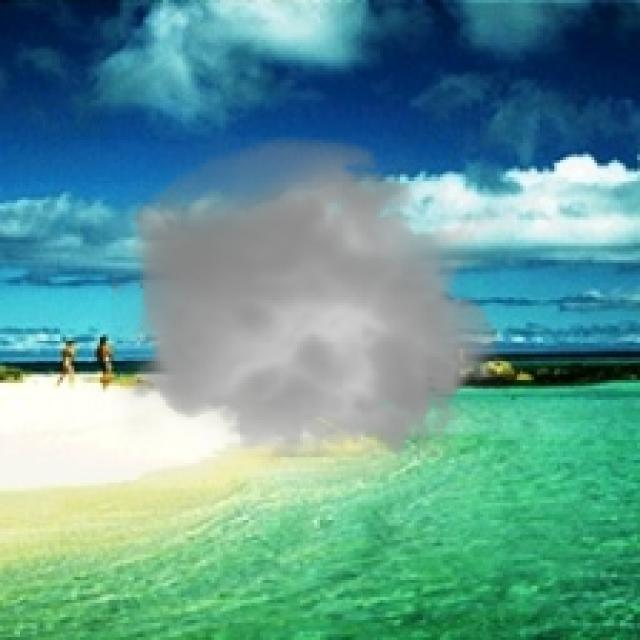smoke: (112, 126, 514, 474)
